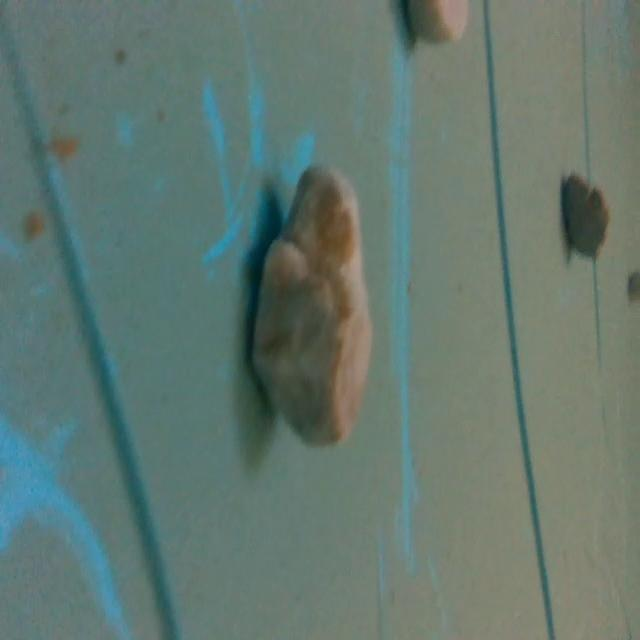rock: (235, 153, 381, 460), (557, 164, 618, 266)
